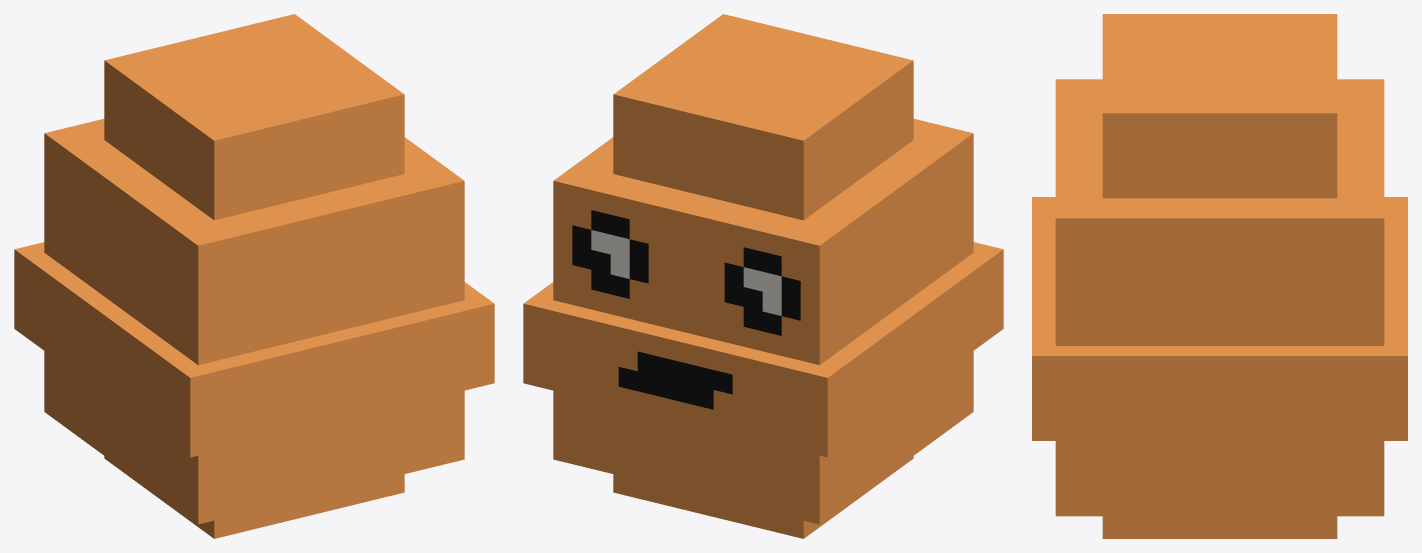
Rendered from Player.glb.
3 views of the same model, side by side, from view 1: azimuth 30°, elevation 25°; view 2: azimuth 150°, elevation 25°; view 3: azimuth 270°, elevation 25° (orthographic). The views are drawn at different scales.
Visible parts, largest first — view 1: Player; view 2: Player; view 3: Player.
Boxes of the visible parts, left/top/right/bottom form: Player: left=14, top=14, right=494, bottom=538; Player: left=523, top=14, right=1003, bottom=538; Player: left=1032, top=14, right=1407, bottom=538.
Bounding box in the file's own units: 1.6 × 2 × 1.6.
Materials: 1 (1 with a texture image).
